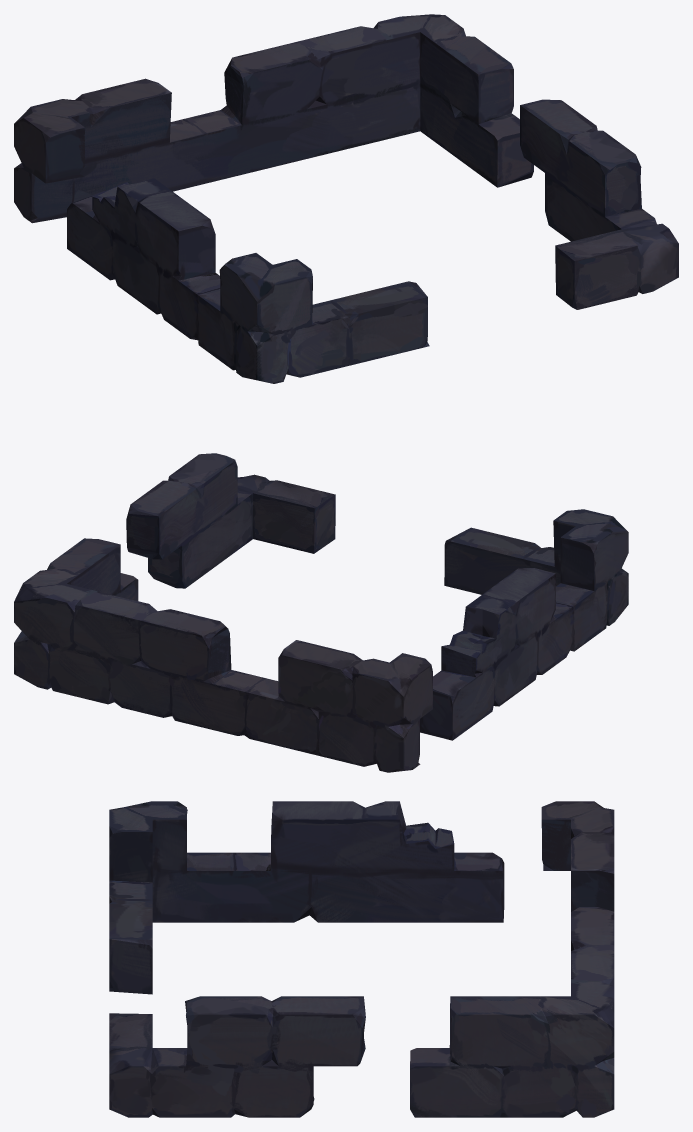
The model's file is Ruins16.fbx.
The picture shows the model from 3 angles, top to bottom: view 1: azimuth 30°, elevation 25°; view 2: azimuth 150°, elevation 25°; view 3: azimuth 270°, elevation 25°; orthographic projection. The views are drawn at different scales.
Visible parts, largest first — view 1: Ruins16; view 2: Ruins16; view 3: Ruins16.
Part boxes in pixels (bbox=[...]): Ruins16: bbox=[14, 14, 678, 383]; Ruins16: bbox=[14, 453, 628, 772]; Ruins16: bbox=[109, 801, 614, 1117].
Bounding box in the file's own units: 5.79 × 1.26 × 6.43.
Materials: 2 (2 with a texture image).
